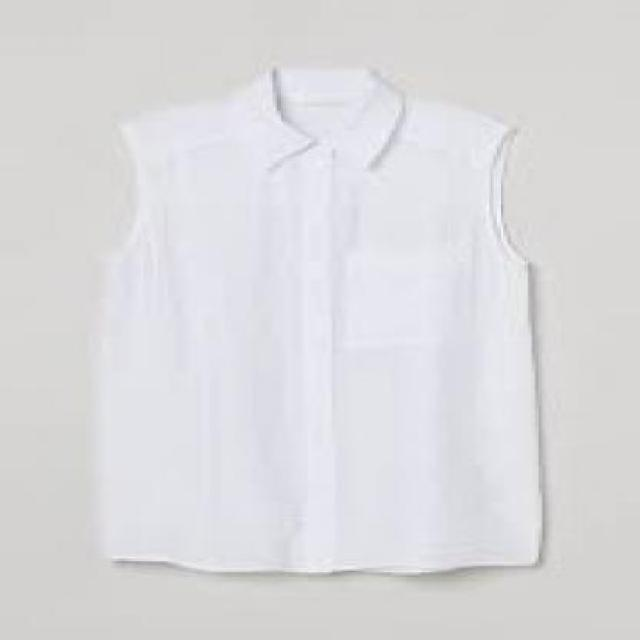no_vest: (106, 68, 543, 575)
